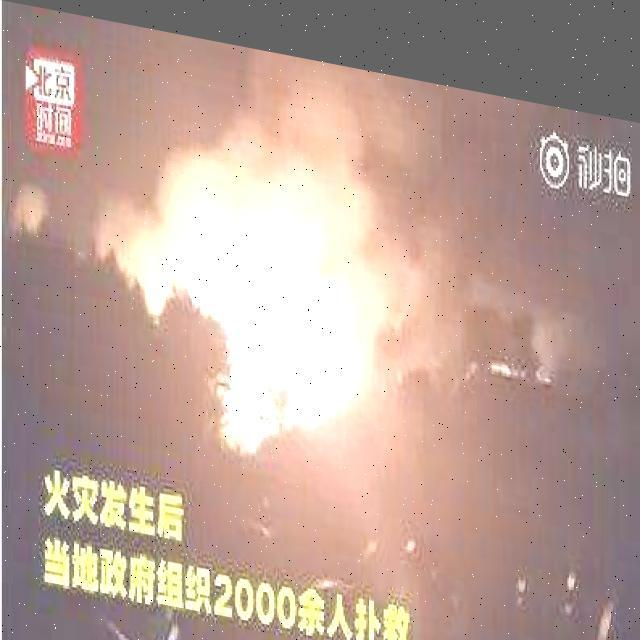Fire: (132, 186, 374, 458)
